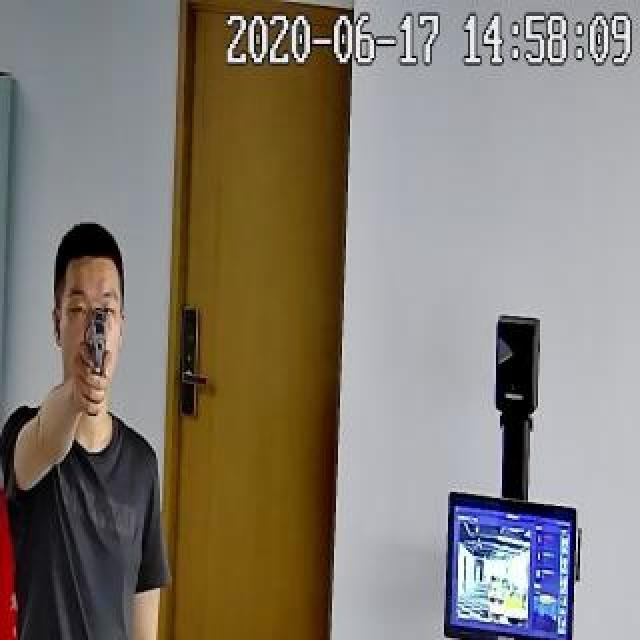Guns: (75, 302, 118, 401)
